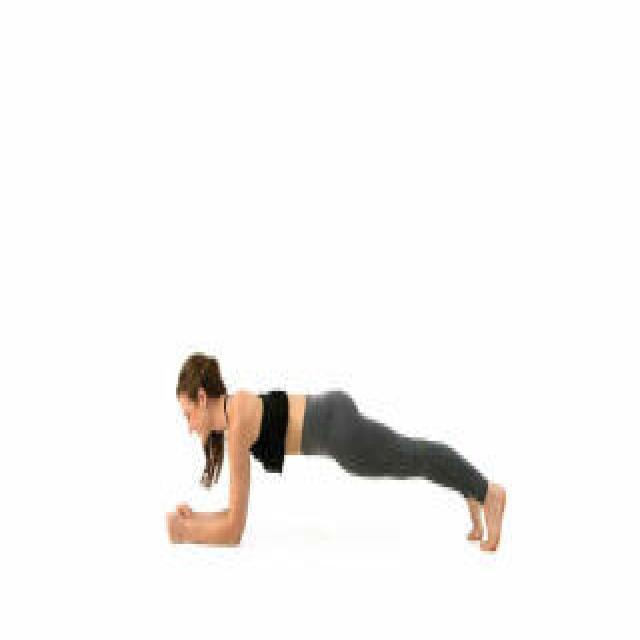yoga-pose plank: (166, 351, 511, 558)
